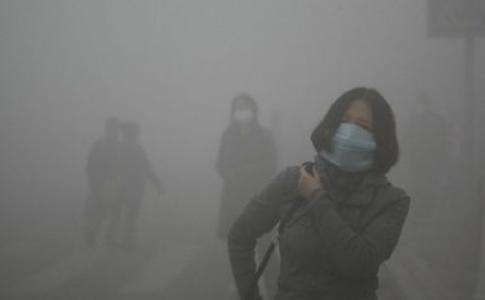person: (228, 86, 406, 300), (210, 90, 280, 247), (80, 113, 124, 256), (114, 117, 154, 250)
